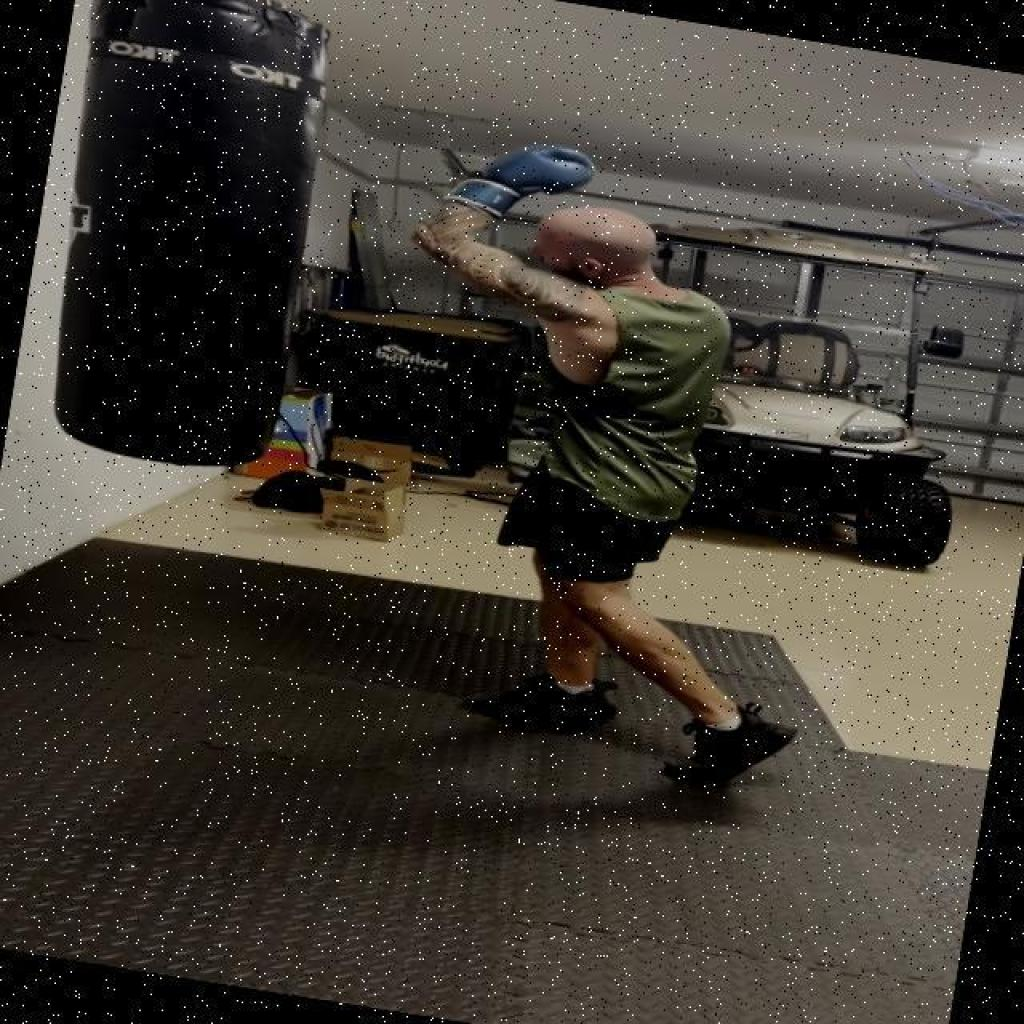bag: (32, 0, 334, 496)
uppercut: (384, 123, 770, 416)
